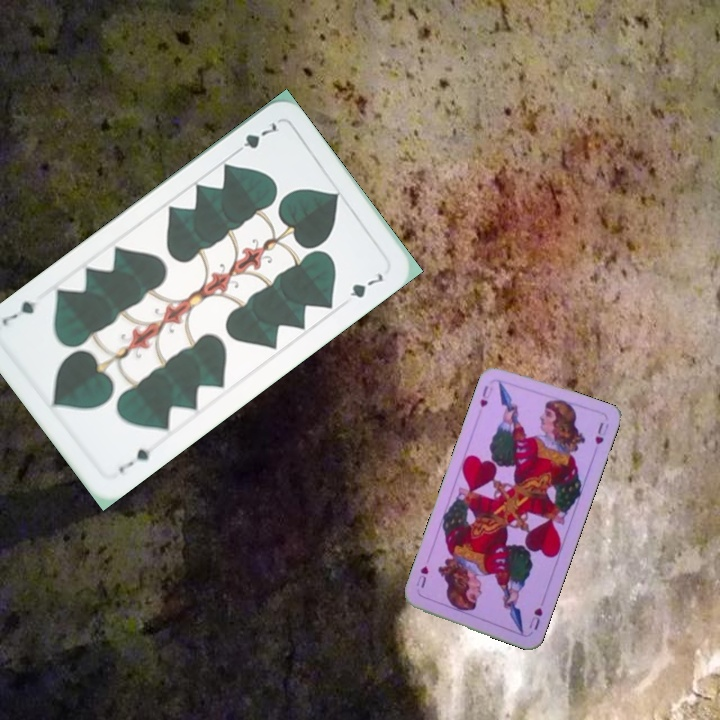G7: (229, 118, 283, 158), (114, 444, 154, 476)
HU: (525, 603, 545, 633), (476, 381, 495, 410)
